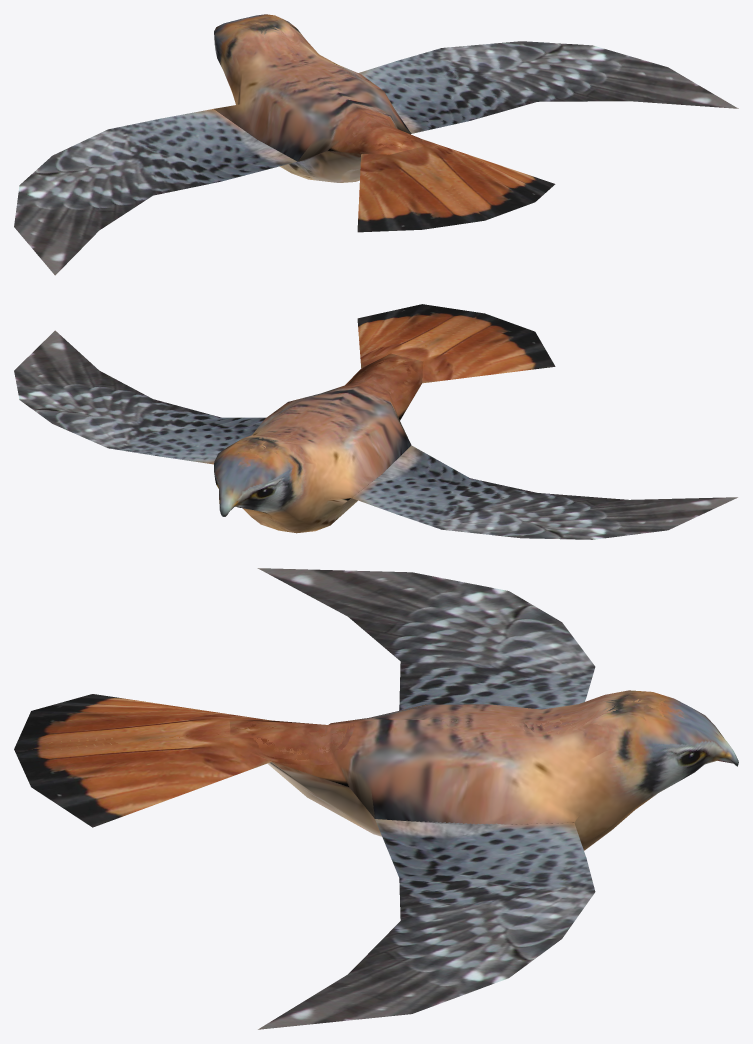
The model's file is predator.obj.
The picture shows the model from 3 angles, top to bottom: view 1: azimuth 30°, elevation 25°; view 2: azimuth 150°, elevation 25°; view 3: azimuth 270°, elevation 25°; orthographic projection. The views are drawn at different scales.
Visible parts, largest first — view 1: Cube; view 2: Cube; view 3: Cube.
Boxes of the visible parts, box(x1,y1,x2,y2) form: Cube: box(14, 14, 738, 275); Cube: box(14, 304, 737, 539); Cube: box(14, 568, 738, 1029).
Size of the model in its own units: 9.54 by 1.49 by 6.33.
